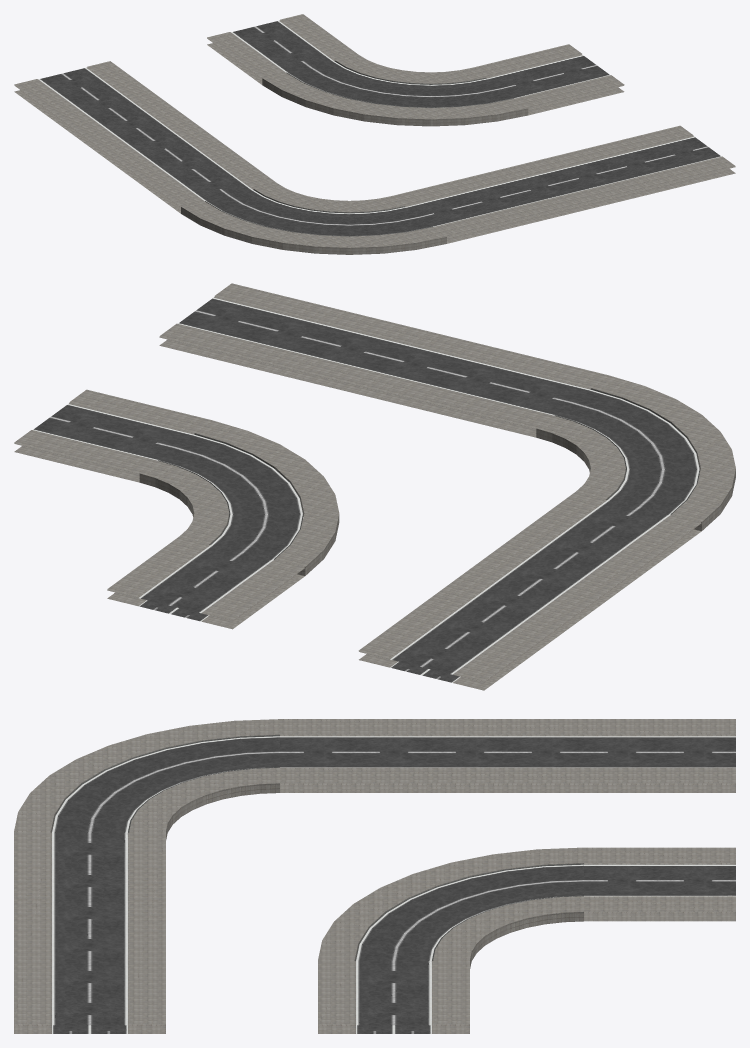
The model's file is doubleCorner_3.fbx.
3 views of the same model, one above another, from view 1: azimuth 30°, elevation 25°; view 2: azimuth 150°, elevation 25°; view 3: azimuth 270°, elevation 25° (orthographic). The views are drawn at different scales.
Visible parts, largest first — view 1: materialC150, materialA150, materialE150; view 2: materialC150, materialA150, materialE150; view 3: materialC150, materialA150, materialE150.
Boxes of the visible parts, x1,y1,x2,y2 form: materialC150: (14,14,735,254); materialA150: (38,20,721,235); materialE150: (205,61,513,236); materialC150: (14,283,735,690); materialA150: (33,297,699,682); materialE150: (158,388,700,559); materialC150: (14,719,735,1033); materialA150: (52,736,735,1033); materialE150: (52,735,583,960).
Bounding box in the file's own units: 122 × 1.8 × 122.
